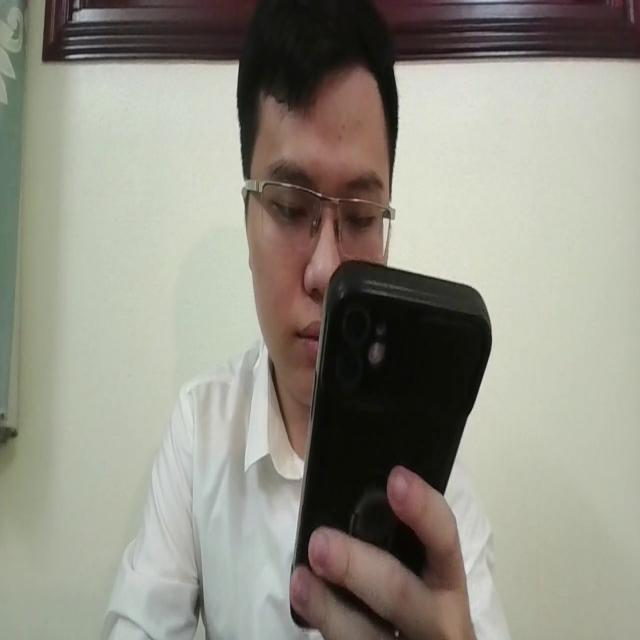phone: (286, 243, 492, 638)
student: (86, 0, 516, 640)
